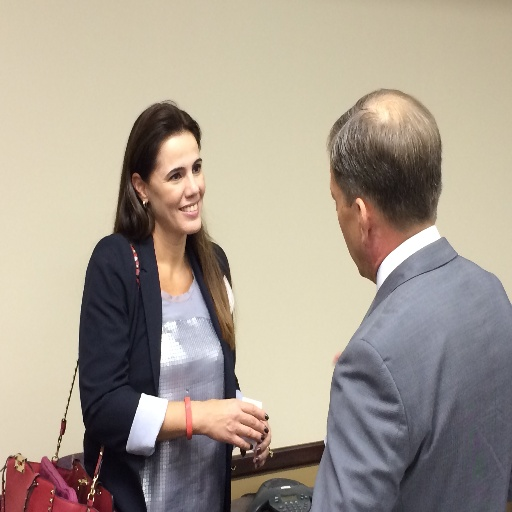hand: (199, 405, 273, 456), (239, 420, 272, 471)
